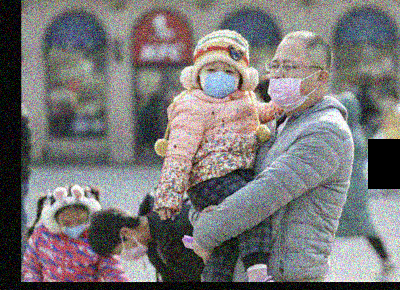mask_weared_incorrect: (265, 56, 318, 114)
with_mask: (198, 63, 242, 99), (112, 242, 152, 262), (59, 214, 88, 239)
